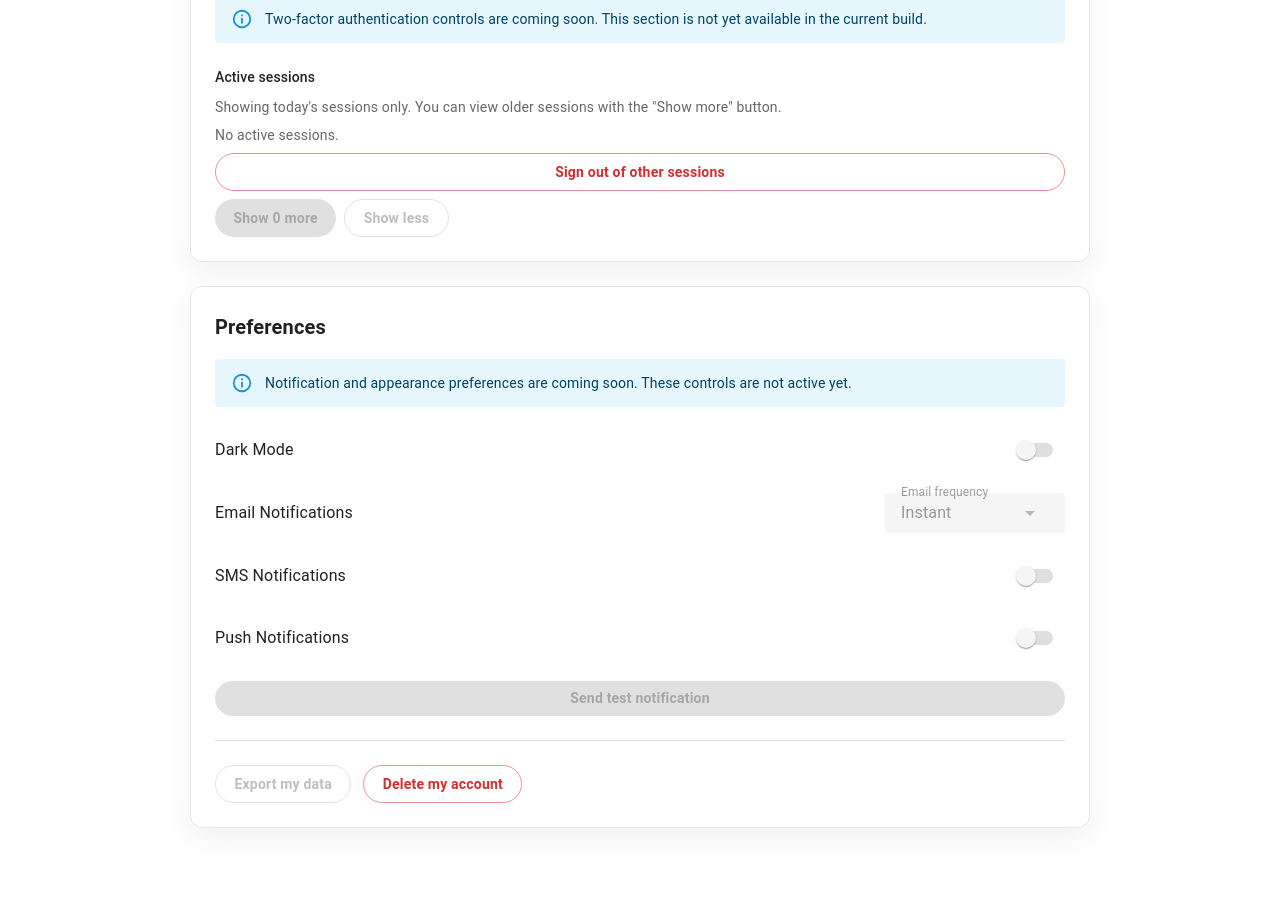
Test case: AdminProfile › opens delete account confirmation dialog
(page scrolled)
Click the button "Delete my account". click: x=443, y=784
box: [363, 765, 522, 803]
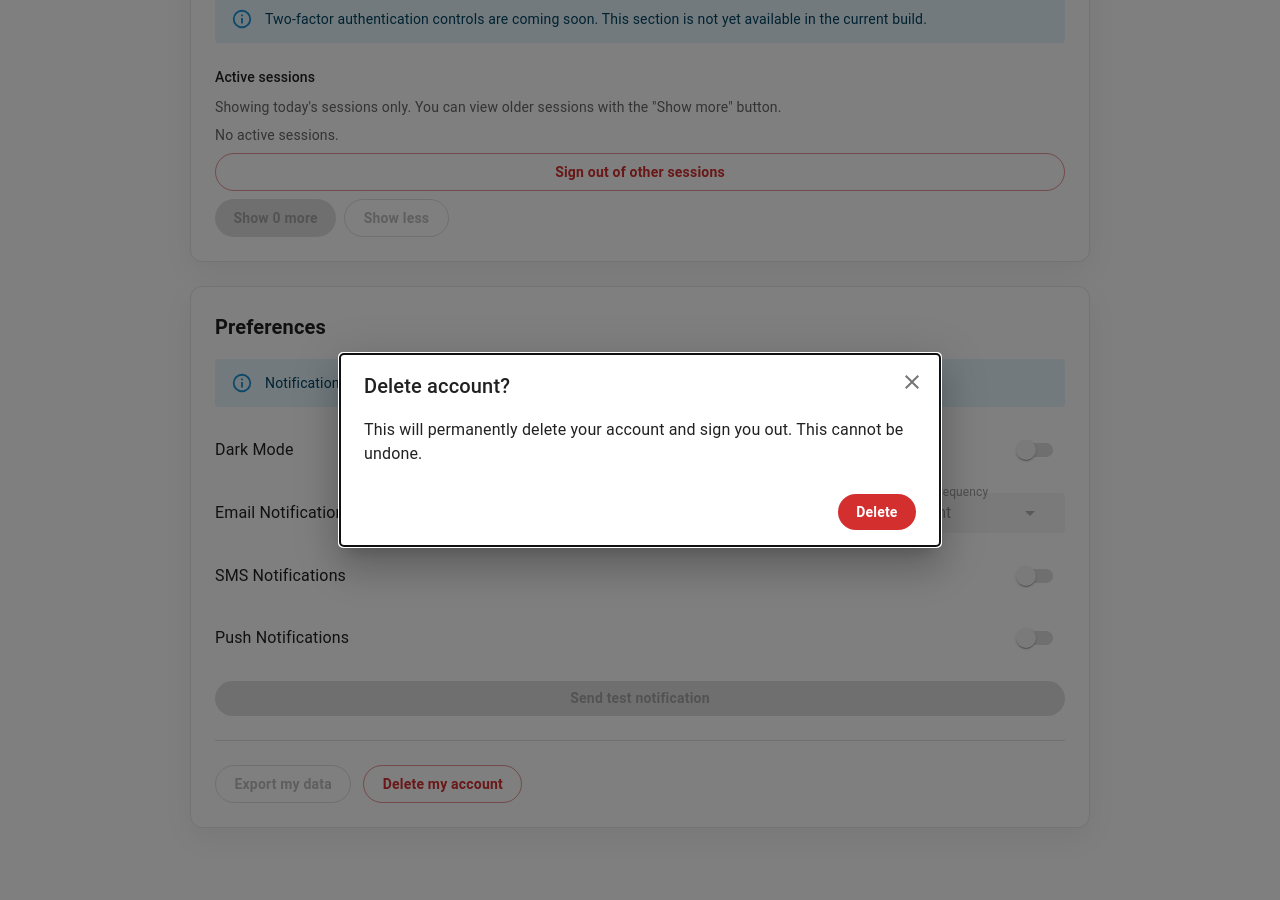
Result: the heading "Delete account?" is shown at [340, 354, 940, 418]
